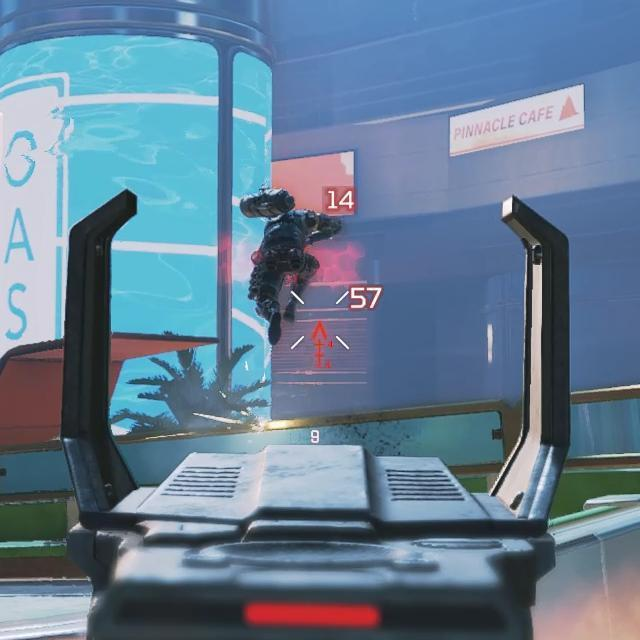avatar: (245, 207, 319, 345)
